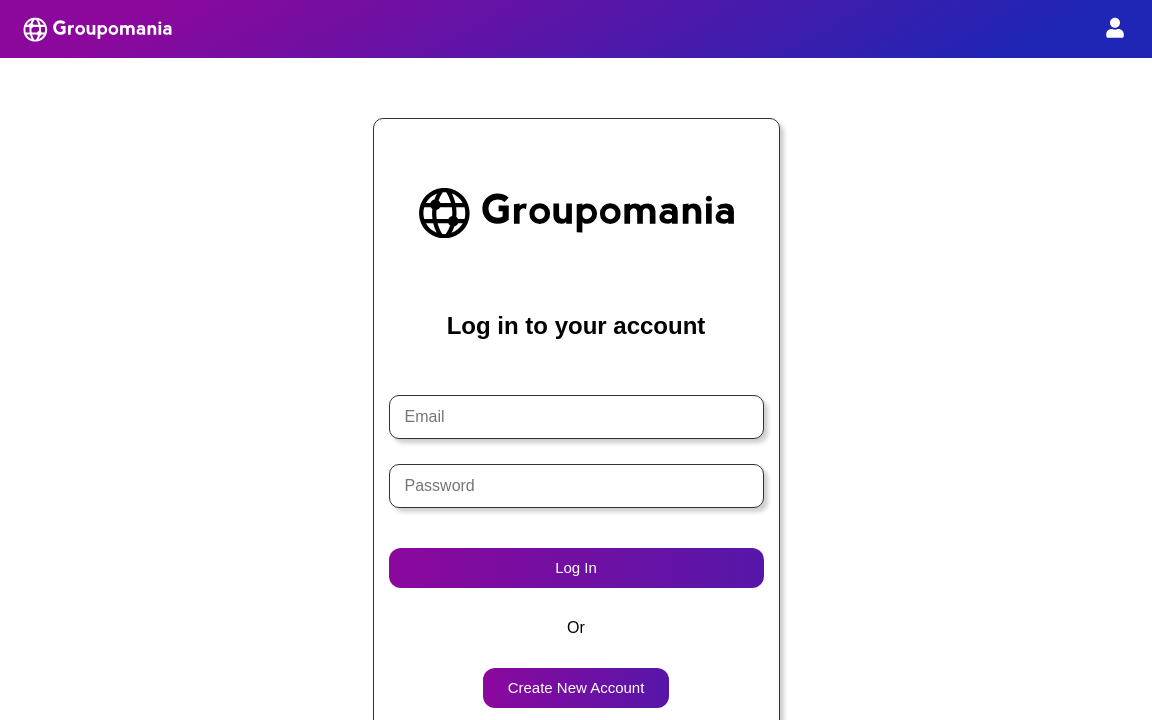
it: Login/Create Account form Validation and Error Handling › cannot log in with the incorrect password
The width and height of the screenshot is (1152, 720).
Check: the heading "Log in to your account" is shown, box x1=447 y1=312 x2=705 y2=339
In the field with class "form__input" showing "Email": [577, 417] box x1=389 y1=395 x2=764 y2=439, type "test@user.com"
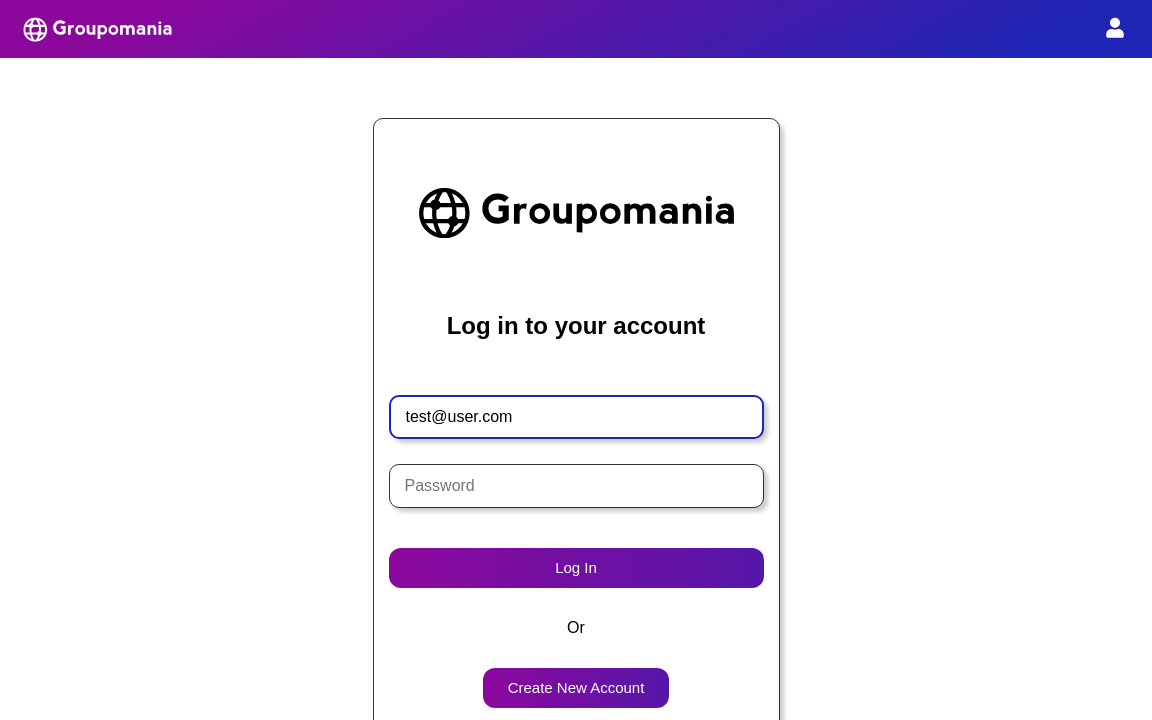
In the password field with class "form__input" showing "Password": [577, 486] box x1=389 y1=464 x2=764 y2=508, type "1234567891"
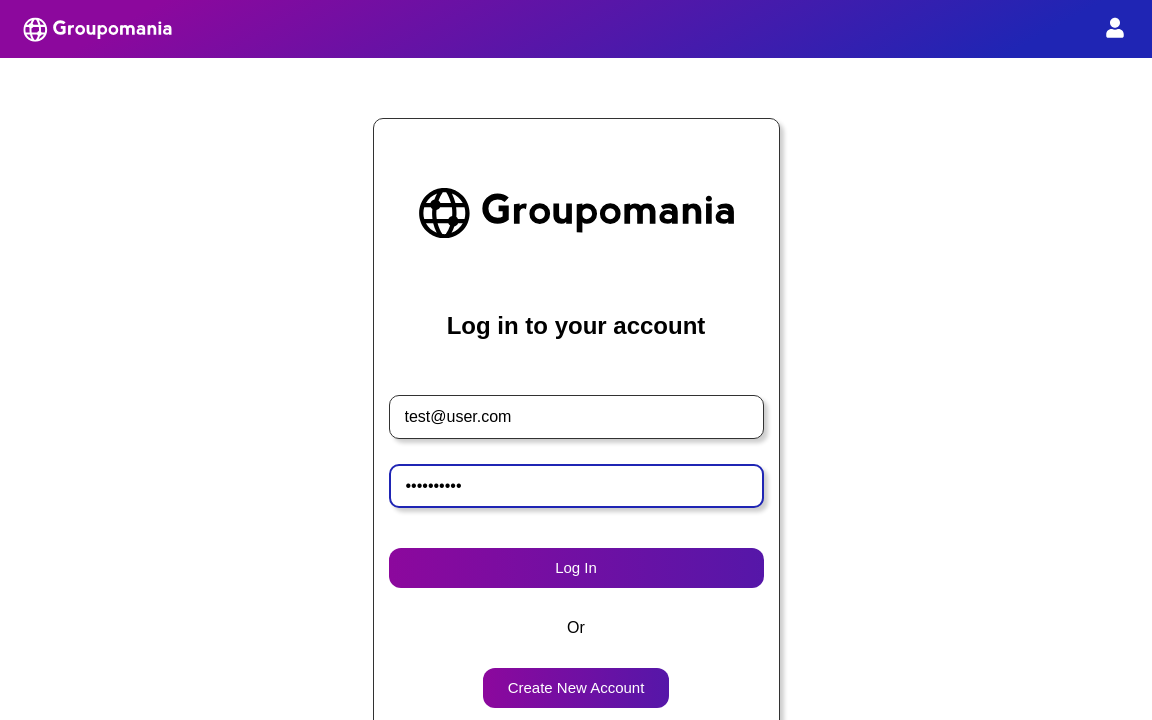
Click the button "Log In": [577, 568] box x1=389 y1=548 x2=764 y2=588
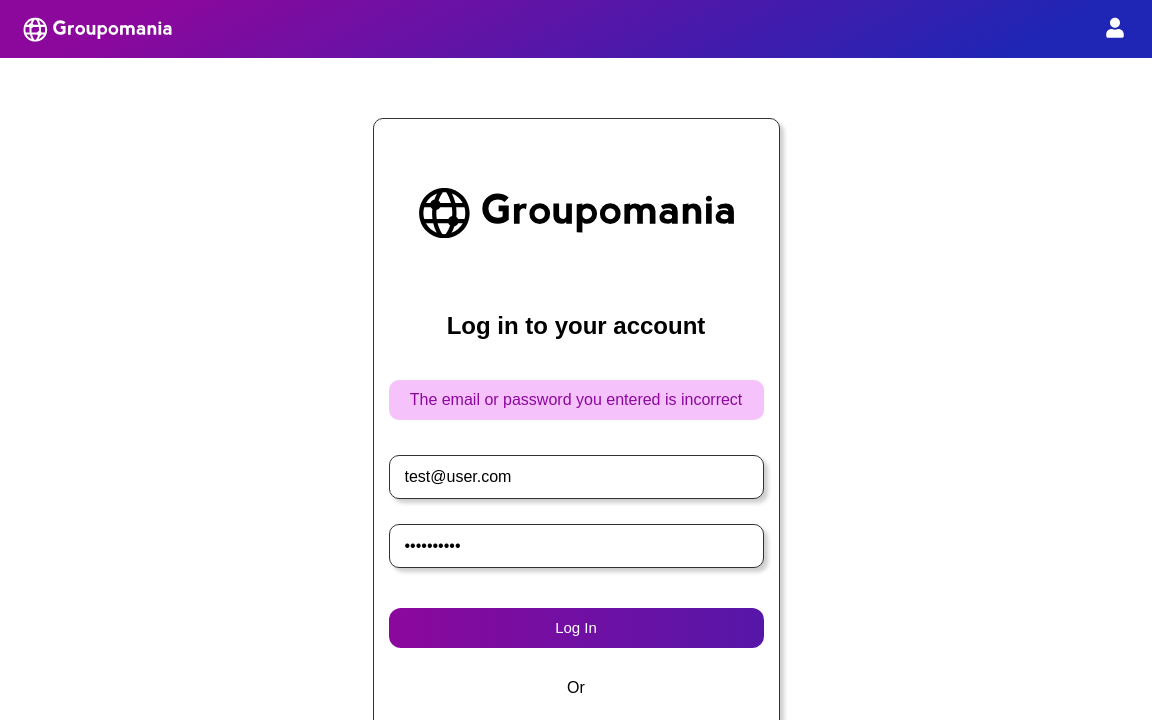
Check: the text "The email or password you entered is incorrect" is shown, box x1=388 y1=380 x2=764 y2=420
